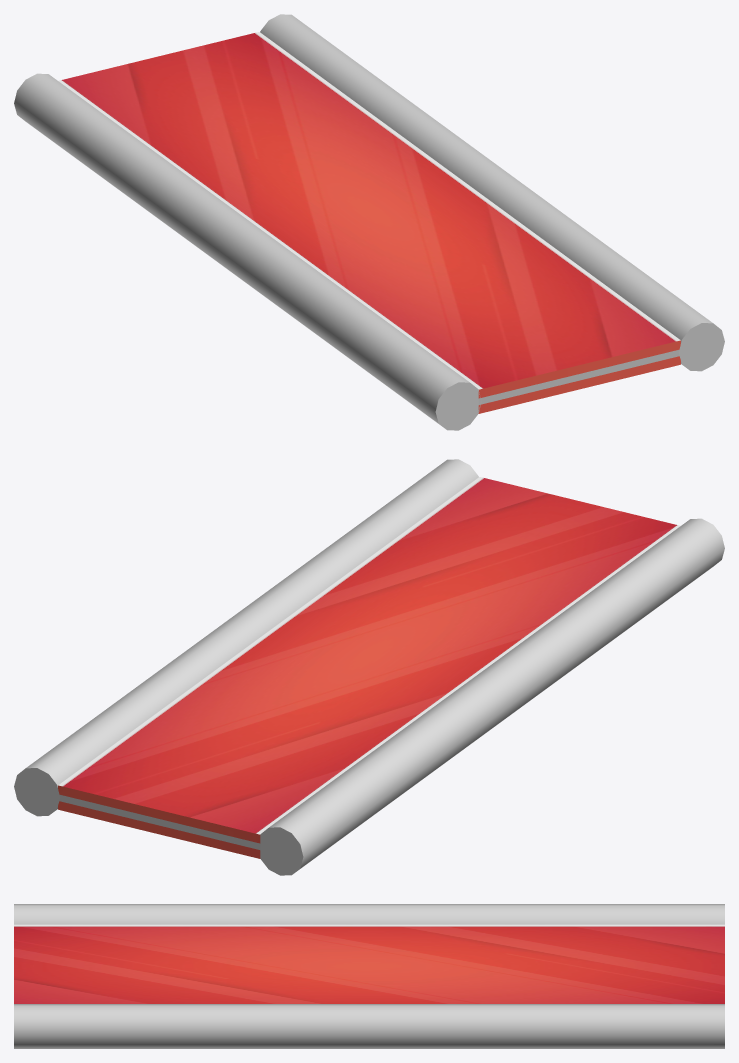
Rendered from PLF0110198.fbx.
3 views of the same model, one above another, from view 1: azimuth 30°, elevation 25°; view 2: azimuth 150°, elevation 25°; view 3: azimuth 270°, elevation 25° (orthographic). The views are drawn at different scales.
Visible parts, largest first — view 1: smPLF0110198; view 2: smPLF0110198; view 3: smPLF0110198.
Boxes of the visible parts, x1,y1,x2,y2 form: smPLF0110198: (14,14,724,430); smPLF0110198: (14,459,724,875); smPLF0110198: (14,904,724,1048).
Size of the model in its own units: 183 by 29.18 by 461.
